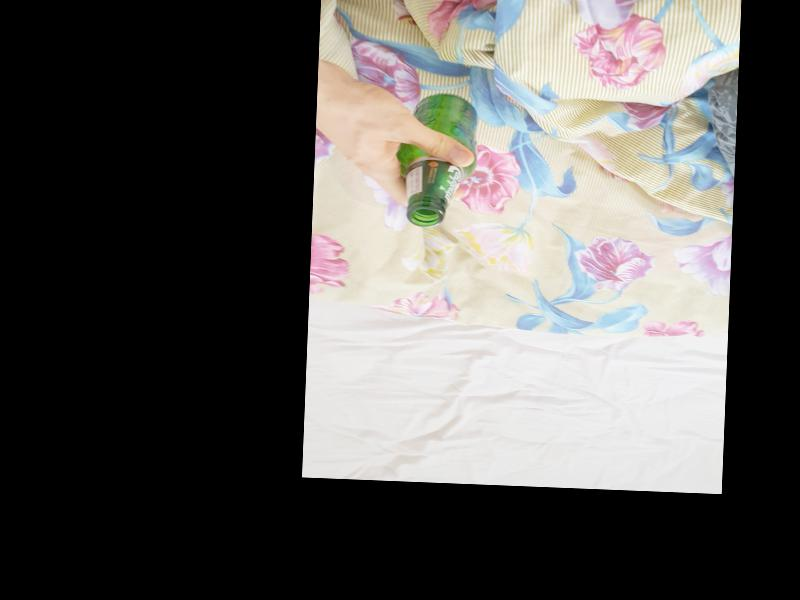Beer: (393, 91, 477, 226)
